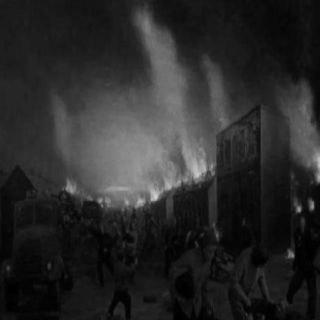Fire: (280, 140, 318, 257)
